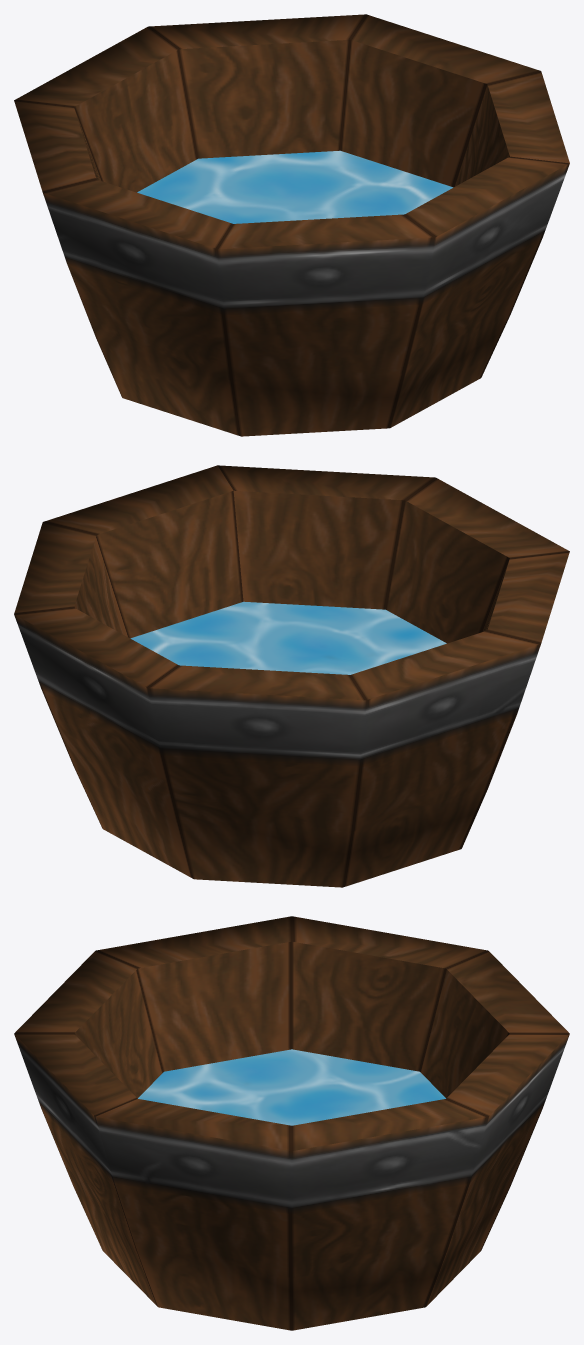
The model's file is bucket_01.fbx.
3 renders of one model, top to bottom at view 1: azimuth 30°, elevation 25°; view 2: azimuth 150°, elevation 25°; view 3: azimuth 270°, elevation 25°, orthographic. The views are drawn at different scales.
Visible parts, largest first — view 1: bucket_01; view 2: bucket_01; view 3: bucket_01.
Part boxes in pixels (bbox=[...]): bucket_01: bbox=[14, 14, 569, 436]; bucket_01: bbox=[14, 465, 569, 887]; bucket_01: bbox=[14, 916, 569, 1330].
Size of the model in its own units: 0.2637 by 0.1136 by 0.2637.
